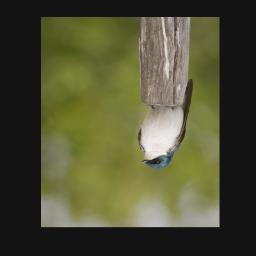Swallow: (136, 78, 194, 173)
